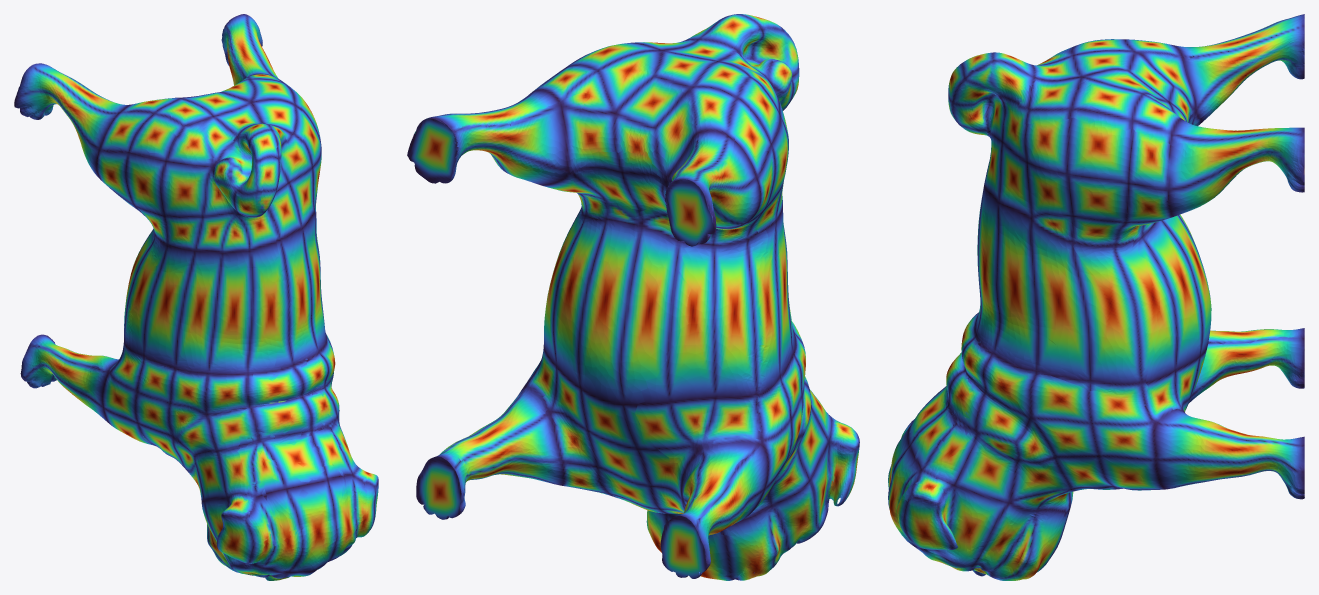
The model's file is gen0.glb.
The picture shows the model from 3 angles, left to right: view 1: azimuth 30°, elevation 25°; view 2: azimuth 150°, elevation 25°; view 3: azimuth 270°, elevation 25°; orthographic projection. The views are drawn at different scales.
Parts seen in each view (by area): view 1: Node; view 2: Node; view 3: Node.
Boxes of the visible parts, x1,y1,x2,y2 form: Node: [14, 14, 378, 580]; Node: [407, 14, 859, 580]; Node: [888, 14, 1304, 580].
Size of the model in its own units: 34.02 by 58.6 by 43.33.
1 material, 1 textured.
